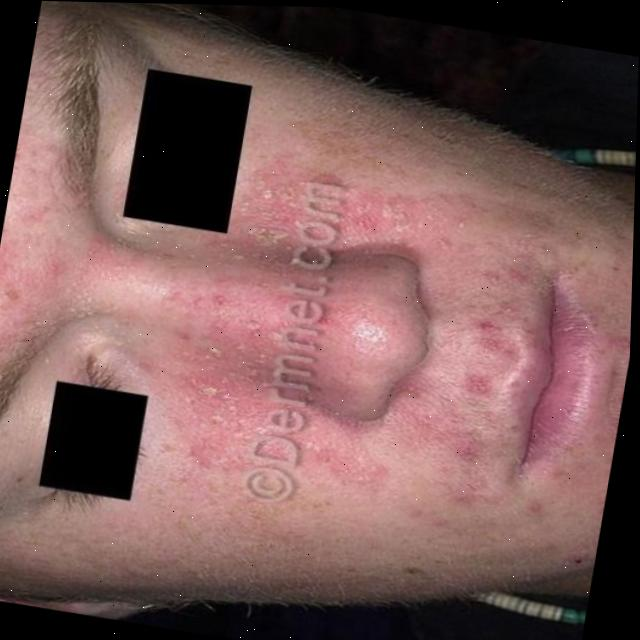Eczema: (118, 140, 589, 552)
